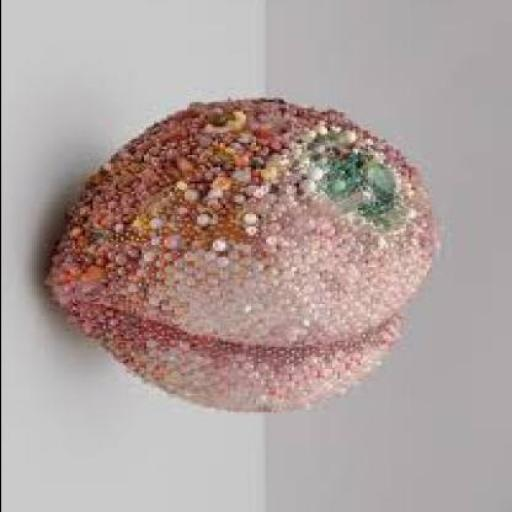biodegradable: (46, 98, 443, 414)
